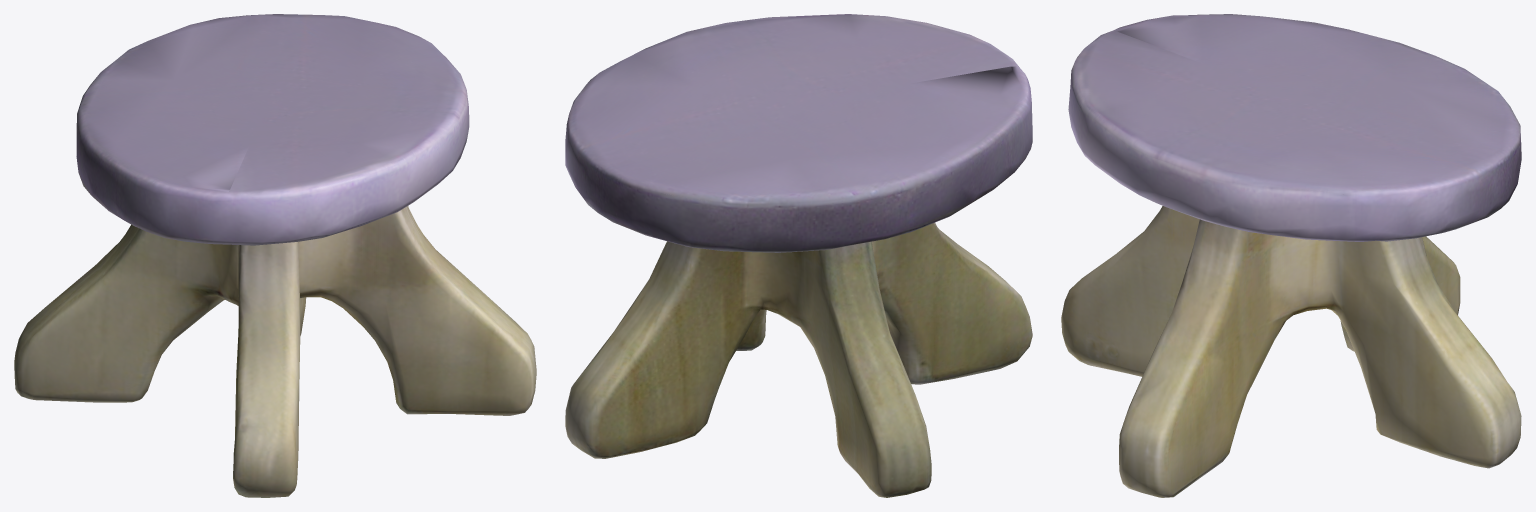
File: table.glb
3 views of the same model, side by side, from view 1: azimuth 30°, elevation 25°; view 2: azimuth 150°, elevation 25°; view 3: azimuth 270°, elevation 25° (orthographic). The views are drawn at different scales.
Parts seen in each view (by area): view 1: world; view 2: world; view 3: world.
Boxes of the visible parts, box(x1,y1,x2,y2) form: world: box(14, 14, 536, 497); world: box(565, 14, 1032, 497); world: box(1061, 14, 1521, 497).
Size of the model in its own units: 1.4 by 1.06 by 1.39.
1 material, 1 textured.
